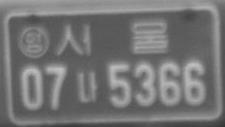0: (21, 65, 43, 111)
3: (133, 62, 157, 107)
5: (107, 62, 132, 109)
6: (182, 60, 207, 107), (157, 61, 182, 107)
7: (44, 65, 67, 111)
나: (77, 71, 99, 104)
서울_D: (56, 19, 169, 55)
영: (19, 26, 49, 58)
